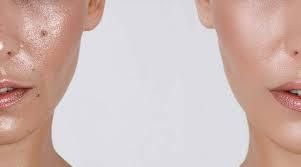Oily-Skin: (20, 5, 76, 152)
acne marks: (38, 25, 52, 45)
